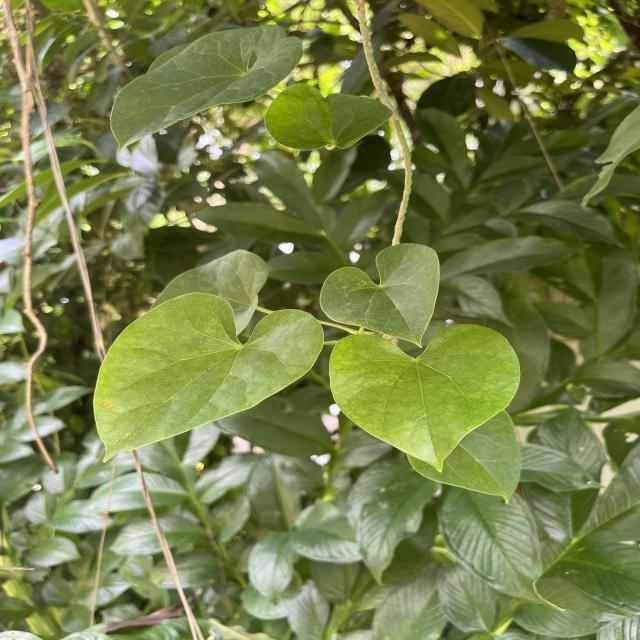Tinospora cordifolia: (90, 290, 328, 465), (326, 322, 524, 474), (316, 239, 442, 350)
